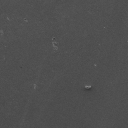corrosion: (50, 37, 59, 52), (84, 84, 92, 90), (93, 63, 98, 68)
